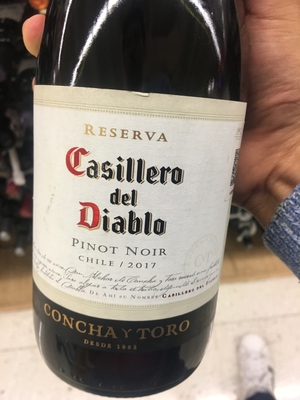casillero del diablo pinot noir: (29, 8, 252, 400)
